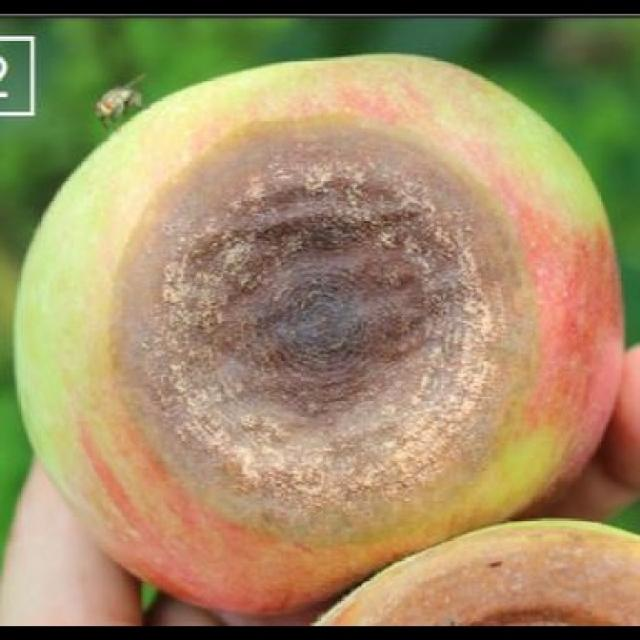Rotten Apple: (10, 49, 628, 618)
